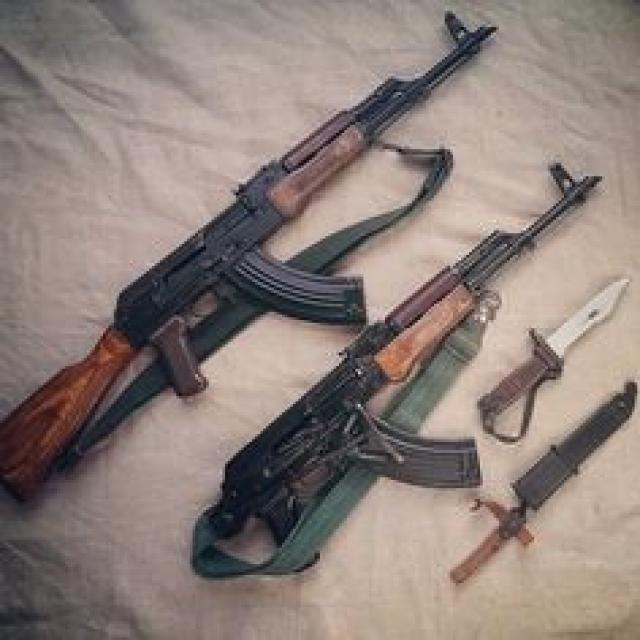ak: (0, 8, 640, 578)
